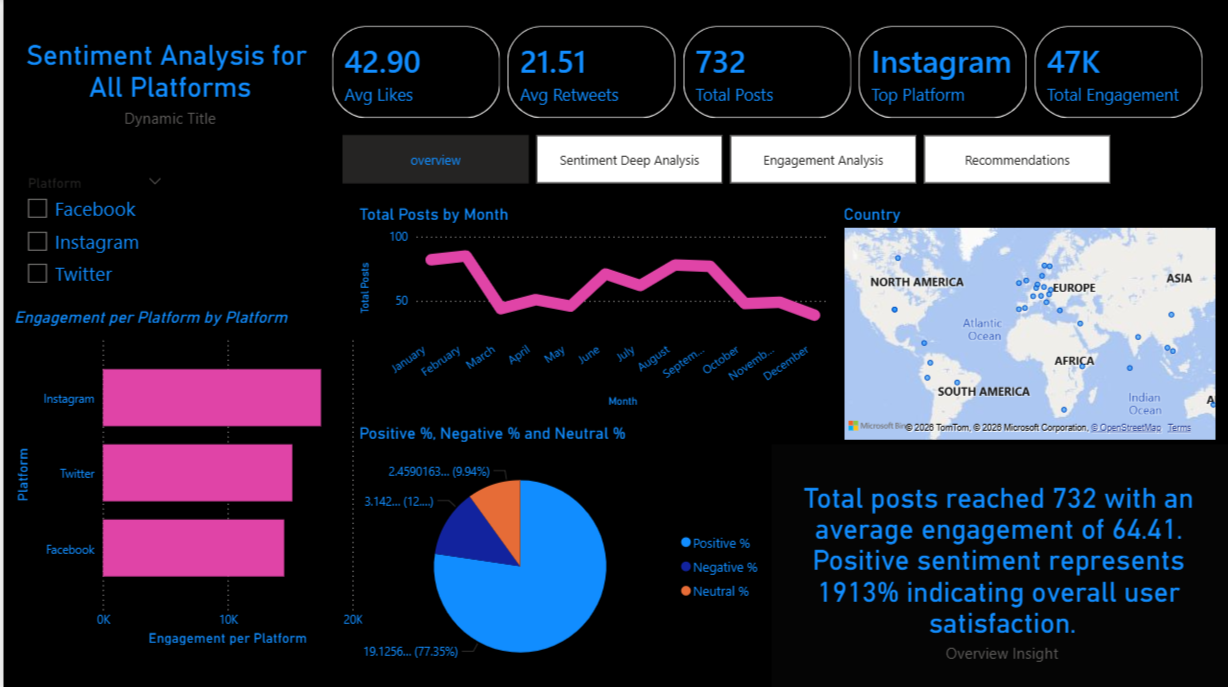

Layout of this report page (visuals, bound fields, positions):
{"tool":"powerbi","page":{"name":"overview","canvas":[1280,720],"ordinal":0},"visuals":[{"type":"cardVisual","fields":{"Data":["3) Sentiment dataset.Avg Likes","3) Sentiment dataset.Avg Retweets","3) Sentiment dataset.Total Posts","3) Sentiment dataset.Top Platform","3) Sentiment dataset.Total Engagement"]},"box":[324.5,11.1,943.2,130.4],"z":0},{"type":"pieChart","fields":{"Y":["3) Sentiment dataset.Positive %","3) Sentiment dataset.Negative %","3) Sentiment dataset.Neutral %"]},"box":[365.7,442.3,434.5,278.2],"z":1000},{"type":"barChart","fields":{"Category":["3) Sentiment dataset.Platform"],"Y":["3) Sentiment dataset.Engagement per Platform"]},"box":[6.4,321.3,372.2,356.3],"z":2000},{"type":"map","fields":{"Category":["3) Sentiment dataset.Country"]},"box":[870.6,214.1,397,250.1],"z":3000},{"type":"lineChart","fields":{"Category":["3) Sentiment dataset.Timestamp.Variation.Date Hierarchy.Month","3) Sentiment dataset.Timestamp.Variation.Date Hierarchy.Day"],"Y":["3) Sentiment dataset.Total Posts"]},"box":[365.7,214.1,498.6,215.7],"z":4000},{"type":"slicer","fields":{"Values":["3) Sentiment dataset.Platform"]},"box":[12.5,178.2,164.1,143.8],"z":5000},{"type":"card","fields":{"Values":["3) Sentiment dataset.Overview Insight"]},"box":[800.2,464.2,479.8,256.3],"z":6000},{"type":"card","fields":{"Values":["3) Sentiment dataset.Dynamic Title"]},"box":[6.4,0,334,167],"z":7000},{"type":"pageNavigator","box":[353.2,142.2,800.2,50],"z":8000}]}

Visuals, with their boxes in screenshot pixels (x1, y1, x2, y2), scaled from the page's 1280x720 canvas onto the 1228x687 screenshot:
cardVisual - 3) Sentiment dataset.Avg Likes x 3) Sentiment dataset.Avg Retweets: <box>311,11,1216,135</box>
pieChart - 3) Sentiment dataset.Positive % x 3) Sentiment dataset.Negative %: <box>351,422,768,686</box>
barChart - 3) Sentiment dataset.Platform x 3) Sentiment dataset.Engagement per Platform: <box>6,307,363,647</box>
map - 3) Sentiment dataset.Country: <box>835,204,1216,443</box>
lineChart - 3) Sentiment dataset.Timestamp.Variation.Date Hierarchy.Month x 3) Sentiment dataset.Timestamp.Variation.Date Hierarchy.Day: <box>351,204,829,410</box>
slicer - 3) Sentiment dataset.Platform: <box>12,170,169,307</box>
card - 3) Sentiment dataset.Overview Insight: <box>768,443,1227,686</box>
card - 3) Sentiment dataset.Dynamic Title: <box>6,0,327,159</box>
pageNavigator: <box>339,136,1107,183</box>
